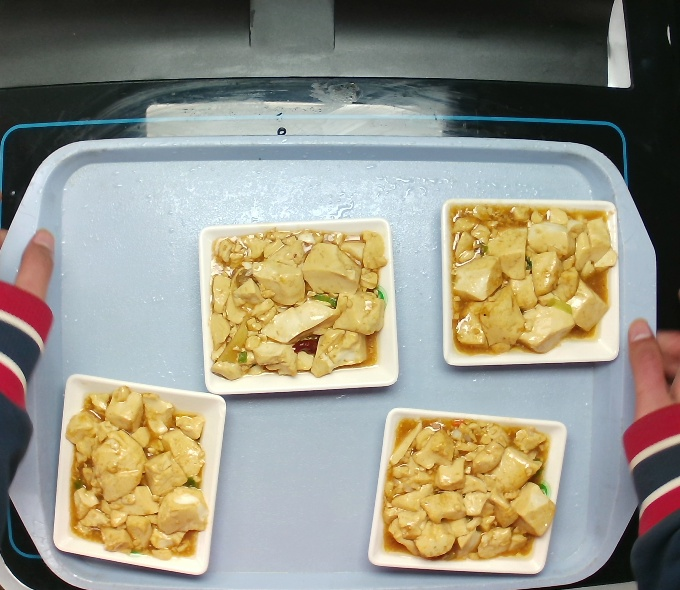wcq-DouFu: (202, 224, 388, 385), (438, 201, 618, 355), (72, 387, 209, 564), (384, 424, 551, 565)
